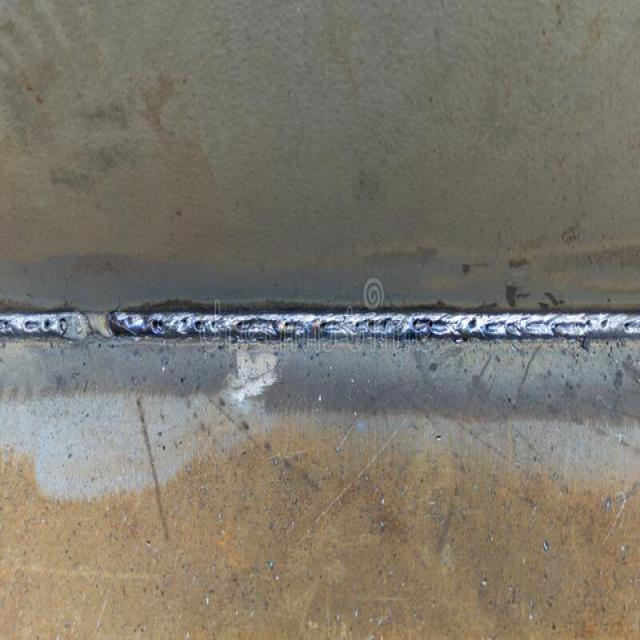Porosity: (356, 318, 386, 330), (412, 317, 432, 331), (317, 318, 330, 331), (505, 319, 518, 331), (598, 318, 611, 328), (622, 320, 632, 330), (470, 318, 479, 327), (284, 322, 291, 329)
